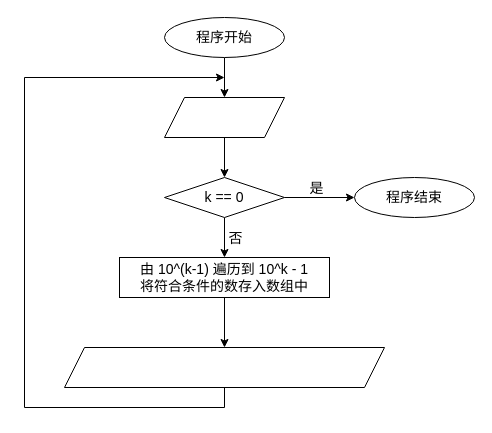
The diagram is 492 pixels wide and 433 high, and some of its shapes have lost their labels. The shapes that lost their labels are listed below. From the top down, each one's centre as x and y in pixels, then its label:
At point 224,117: "输入数字k".
At point 224,367: "输出 k位的xxx数共有count个arr[0],arr[1],...".
